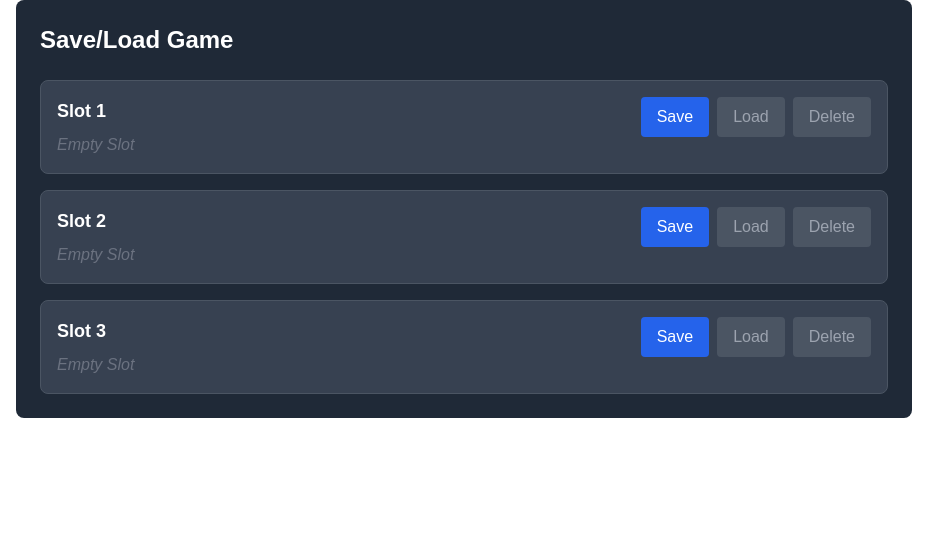
Test: SaveLoadMenu › should save game to slot when save button is clicked
This screenshot has width=929, height=543.
Click the 1st button "Save".
click(675, 117)  # box [641,97,709,137]
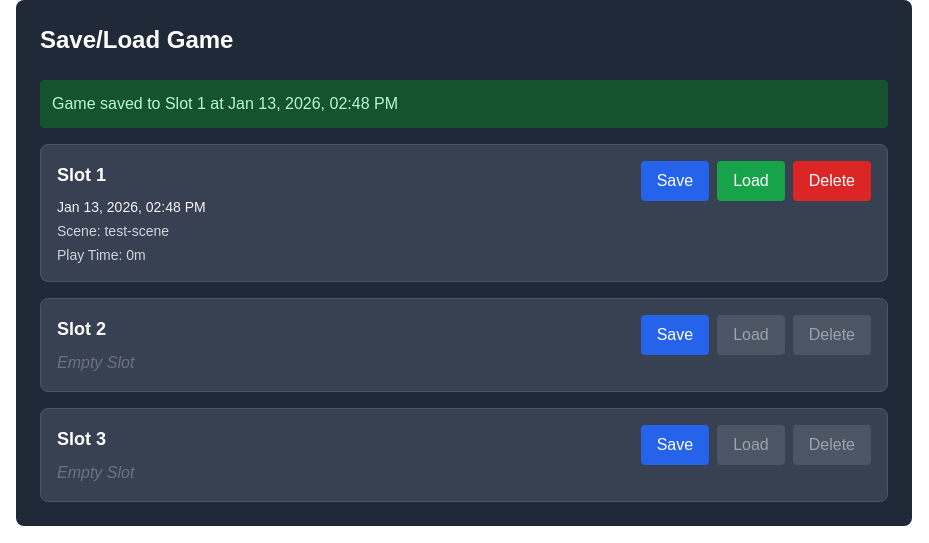
Now the text "Game saved to Slot 1 at Jan 13, 2026, 02:48 PM" is shown, box [40,80,888,128]
Now the text "Empty Slot" is shown 2 times, box [57,354,134,371]; [57,464,134,481]
